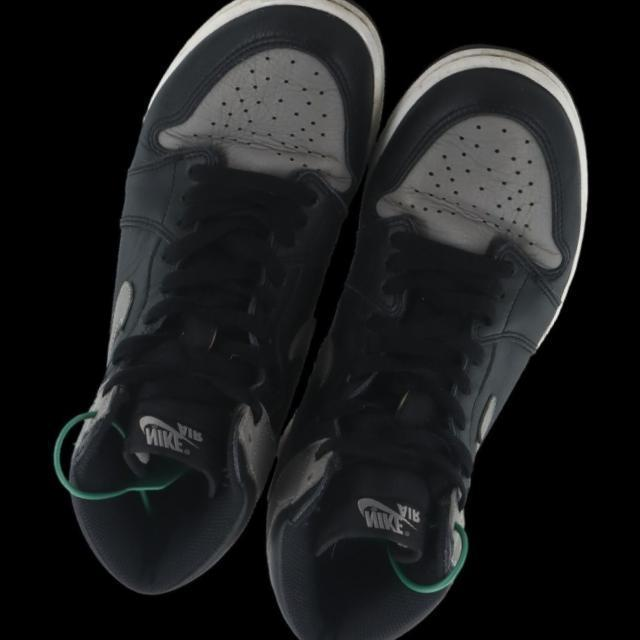nike original jordan 1: (9, 0, 424, 629), (225, 13, 640, 640)
